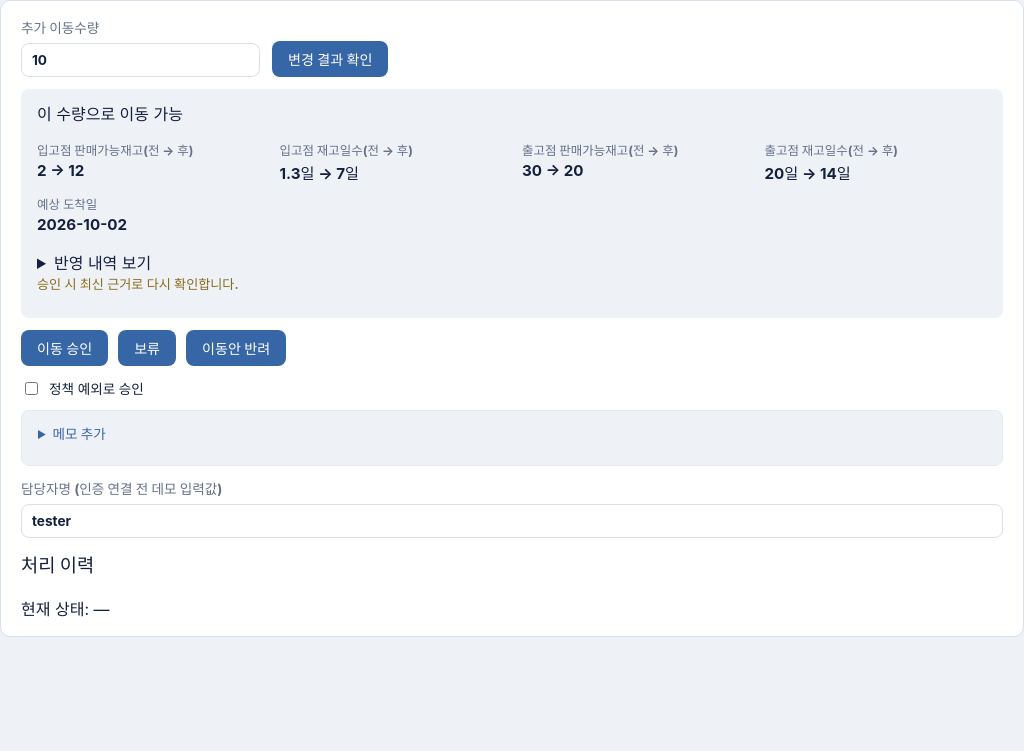
DecisionPanel decision submission › fails closed immediately on a successful REJECTED response, even if the follow-up history GET lags with a non-terminal status
Step 1. Click the button "이동안 반려" → {"x": 236, "y": 348}, box [186, 330, 286, 366]
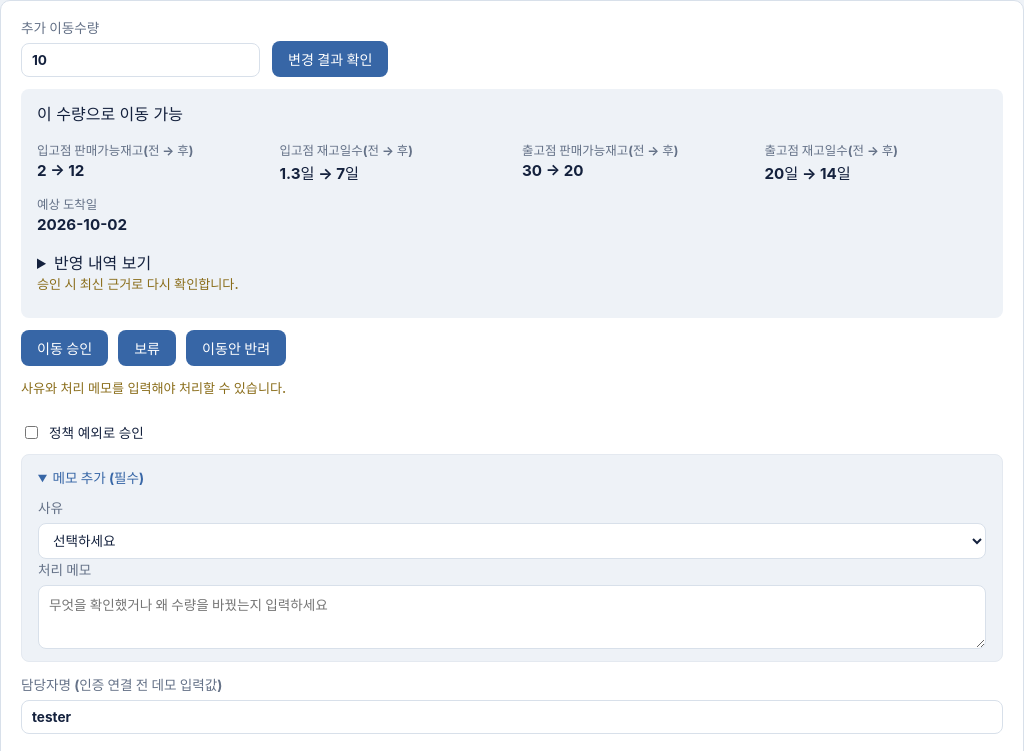
Step 2. Select "이동 불필요" in the dropdown labelled "사유" → {"x": 512, "y": 541}, box [38, 523, 986, 559]
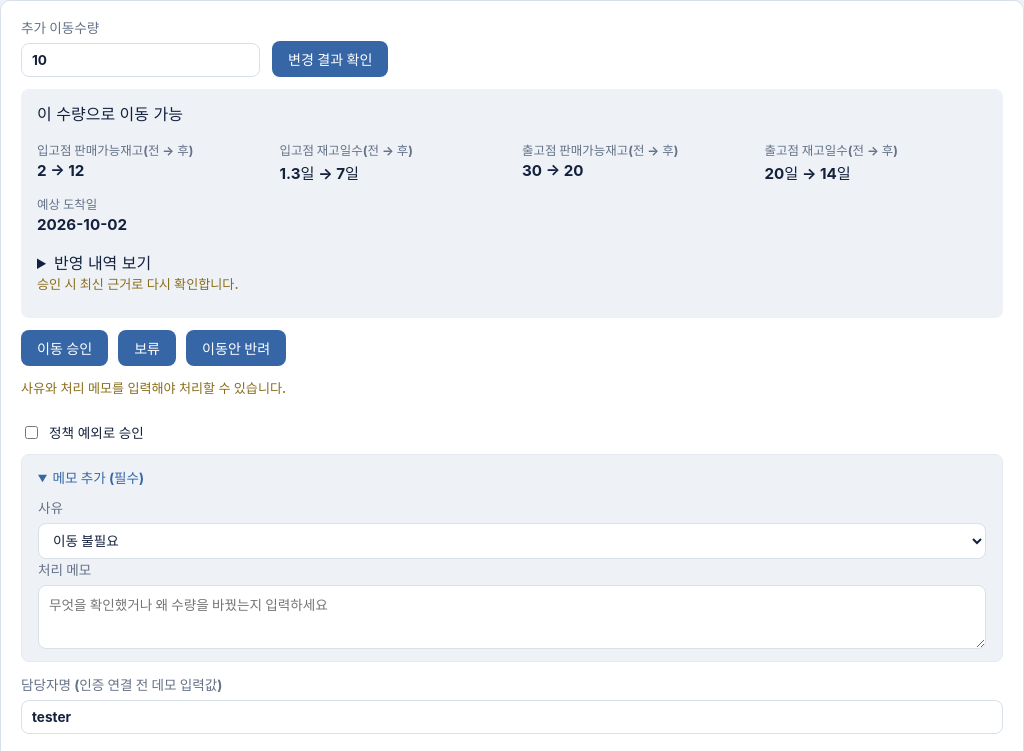
Step 3. Type "재고 재검토 필요" into the text box labelled "처리 메모" → {"x": 512, "y": 617}, box [38, 585, 986, 649]
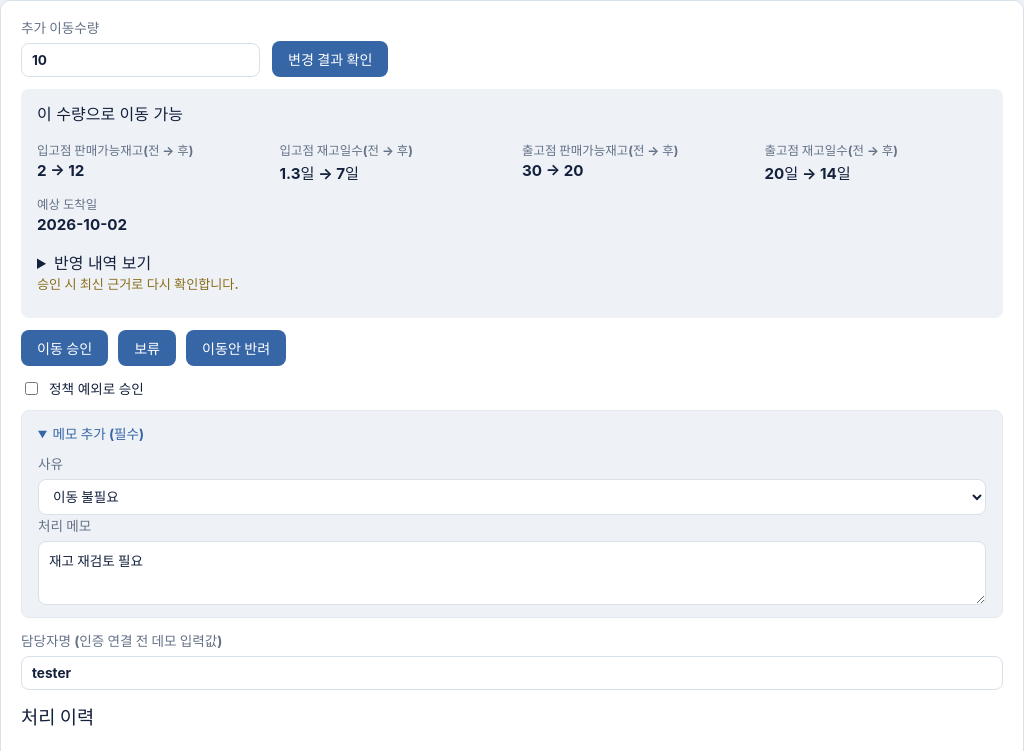
Step 4. Click the button "이동안 반려" → {"x": 236, "y": 348}, box [186, 330, 286, 366]
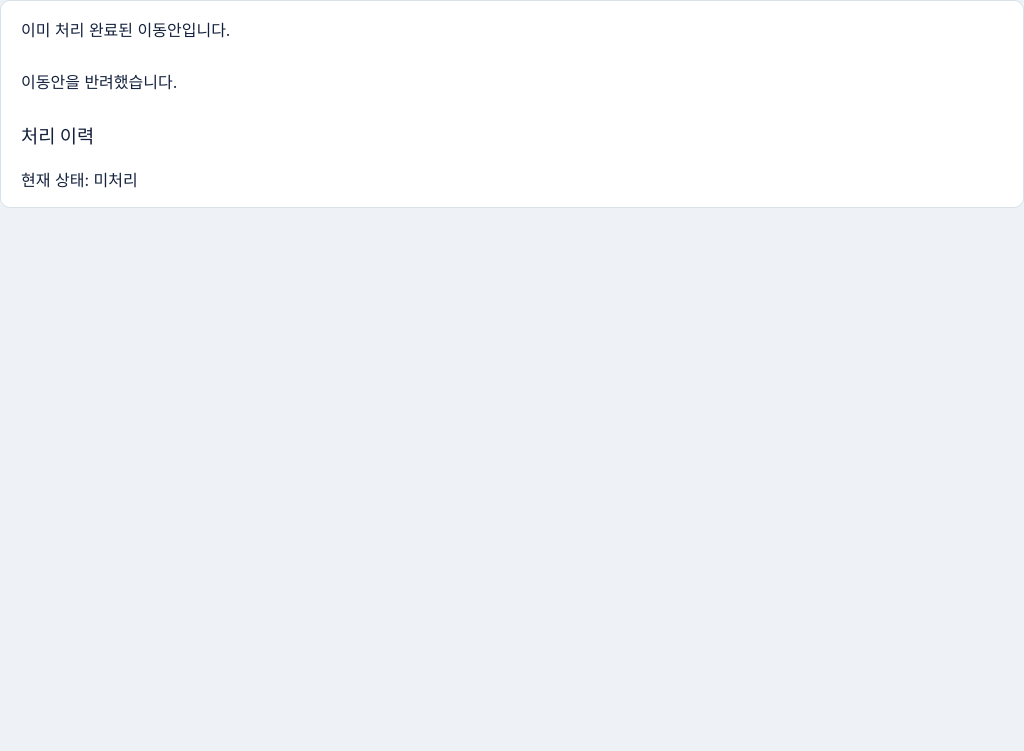
Check: the text "이미 처리 완료된 이동안입니다." is shown, box [21, 20, 230, 40]
Check: the button "이동안 반려" is gone
Check: the text "이동안을 반려했습니다." is shown, box [21, 72, 177, 92]
